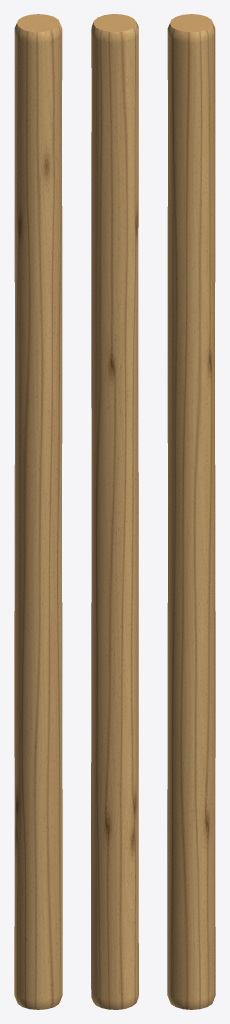
Rendered from palewood_shaft.glb.
3 renders of one model, left to right at view 1: azimuth 90°, elevation 25°; view 2: azimuth 210°, elevation 25°; view 3: azimuth 270°, elevation 25°, orthographic.
Parts seen in each view (by area): view 1: pine worked longitudinal grain, pine endgrain on both sawn ends; view 2: pine worked longitudinal grain, pine endgrain on both sawn ends; view 3: pine worked longitudinal grain, pine endgrain on both sawn ends.
Part boxes in pixels (bbox=[...]): pine worked longitudinal grain: bbox=[14, 23, 62, 1009]; pine endgrain on both sawn ends: bbox=[17, 14, 59, 32]; pine worked longitudinal grain: bbox=[91, 21, 138, 1009]; pine endgrain on both sawn ends: bbox=[93, 14, 136, 31]; pine worked longitudinal grain: bbox=[167, 23, 215, 1009]; pine endgrain on both sawn ends: bbox=[170, 14, 212, 32].
Bounding box in the file's own units: 0.0501 × 1.12 × 0.0501.
2 materials, 2 textured.
